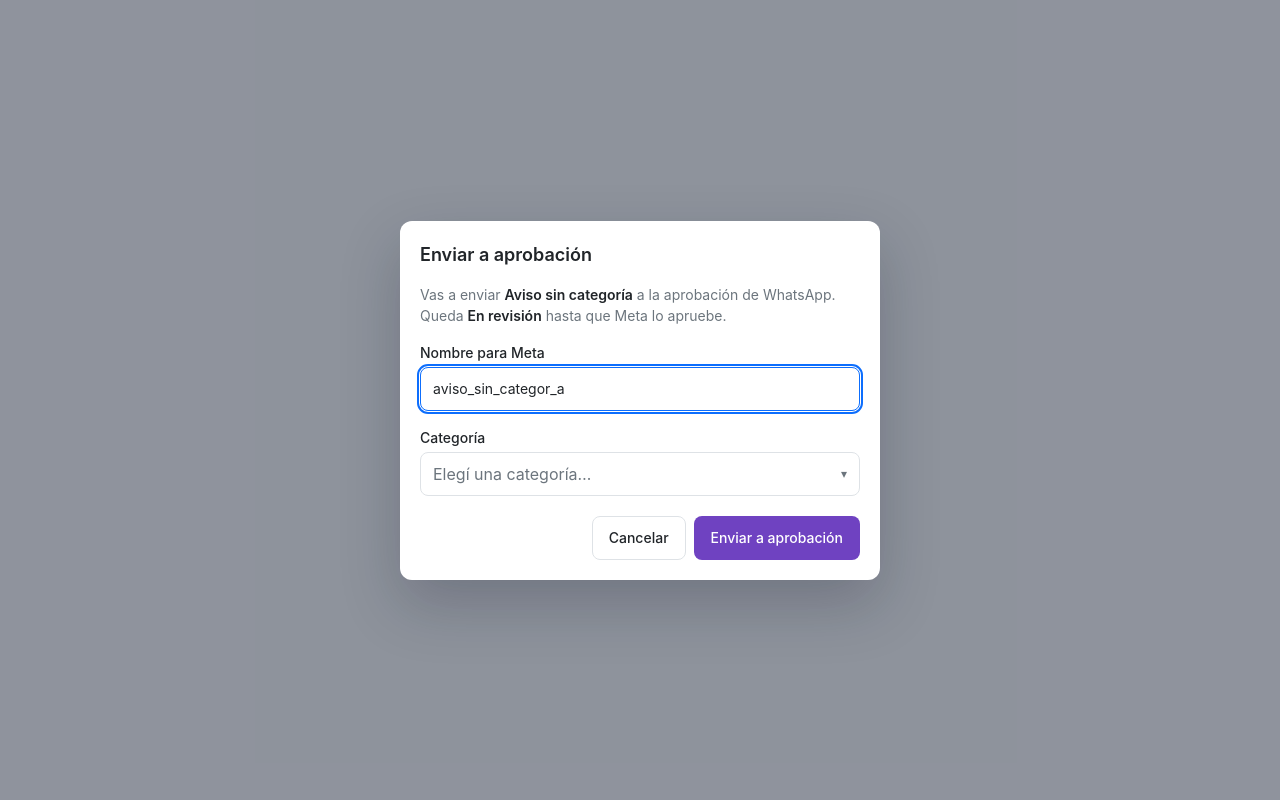
A11Y-2: SubmitTemplateModal — Select de category asocia su estado inválido › tras un intento inválido, el combobox tiene aria-invalid + aria-describedby al error
Click the button "Enviar a aprobación" at {"x": 777, "y": 538}, box [694,516,860,560]
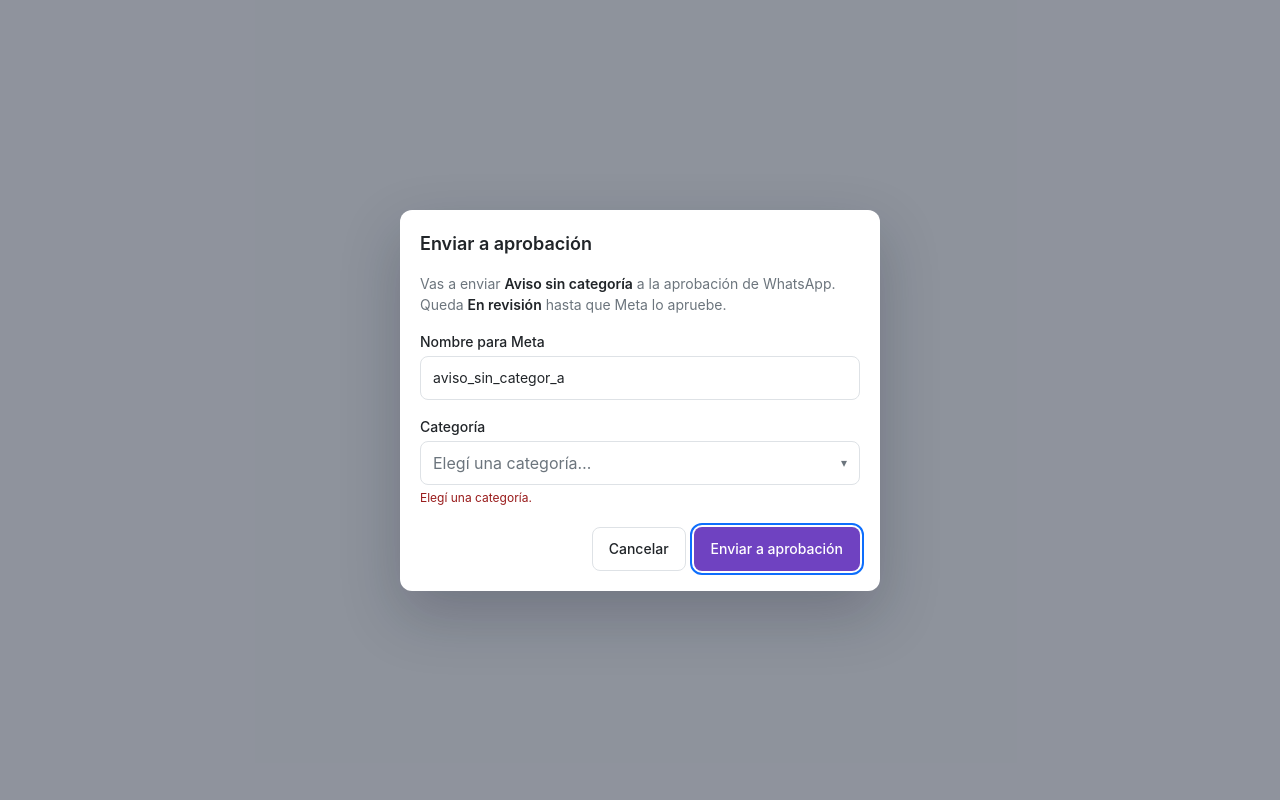
Now the text "Elegí una categoría." is shown, box [420,490,532,504]
